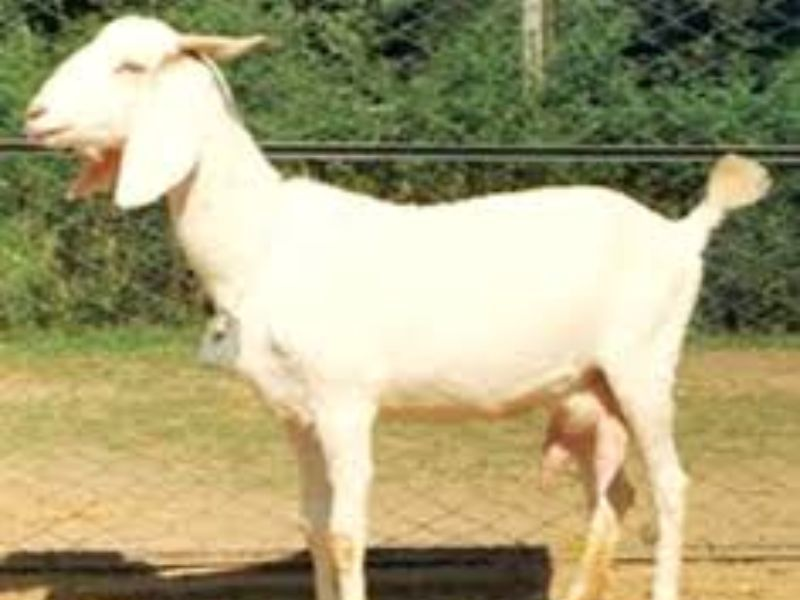goat: (21, 6, 781, 600)
